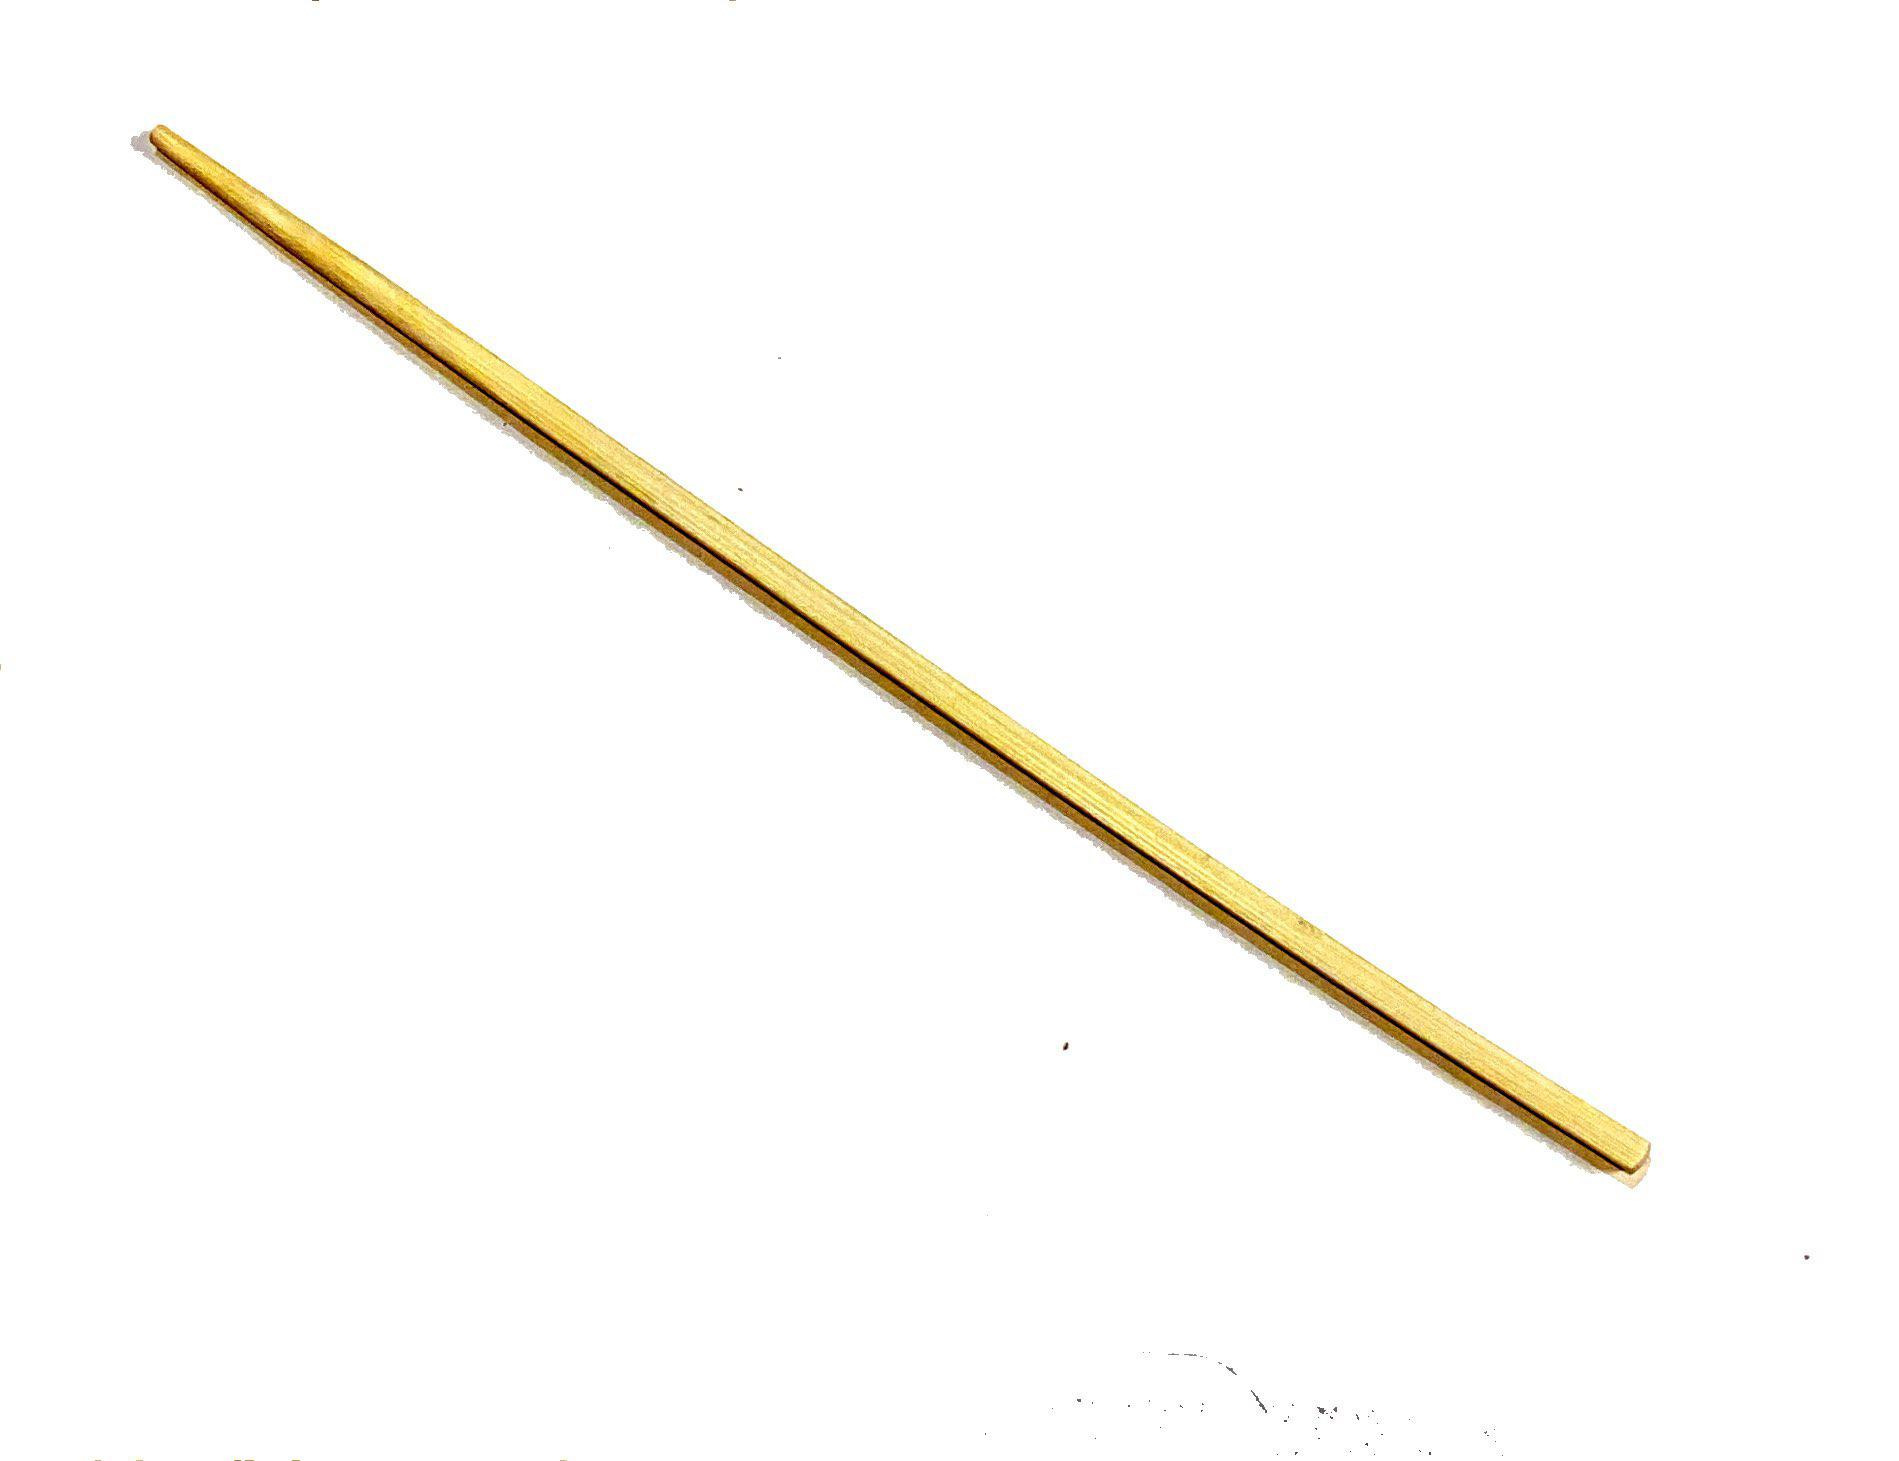Chopstick: (104, 55, 1726, 1443)
